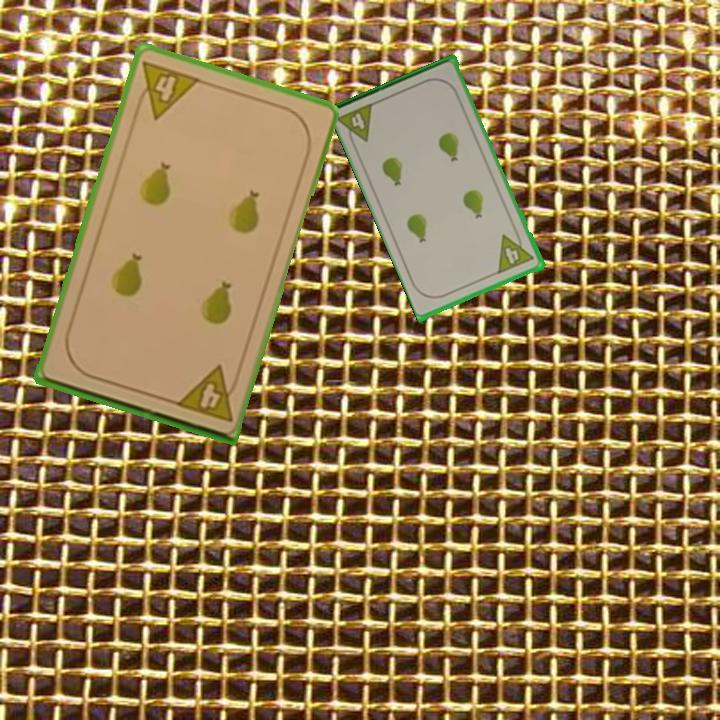4p: (130, 57, 203, 122), (171, 362, 243, 425), (335, 99, 378, 150), (494, 227, 537, 276)
